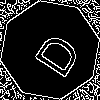D: (25, 25, 83, 80)
